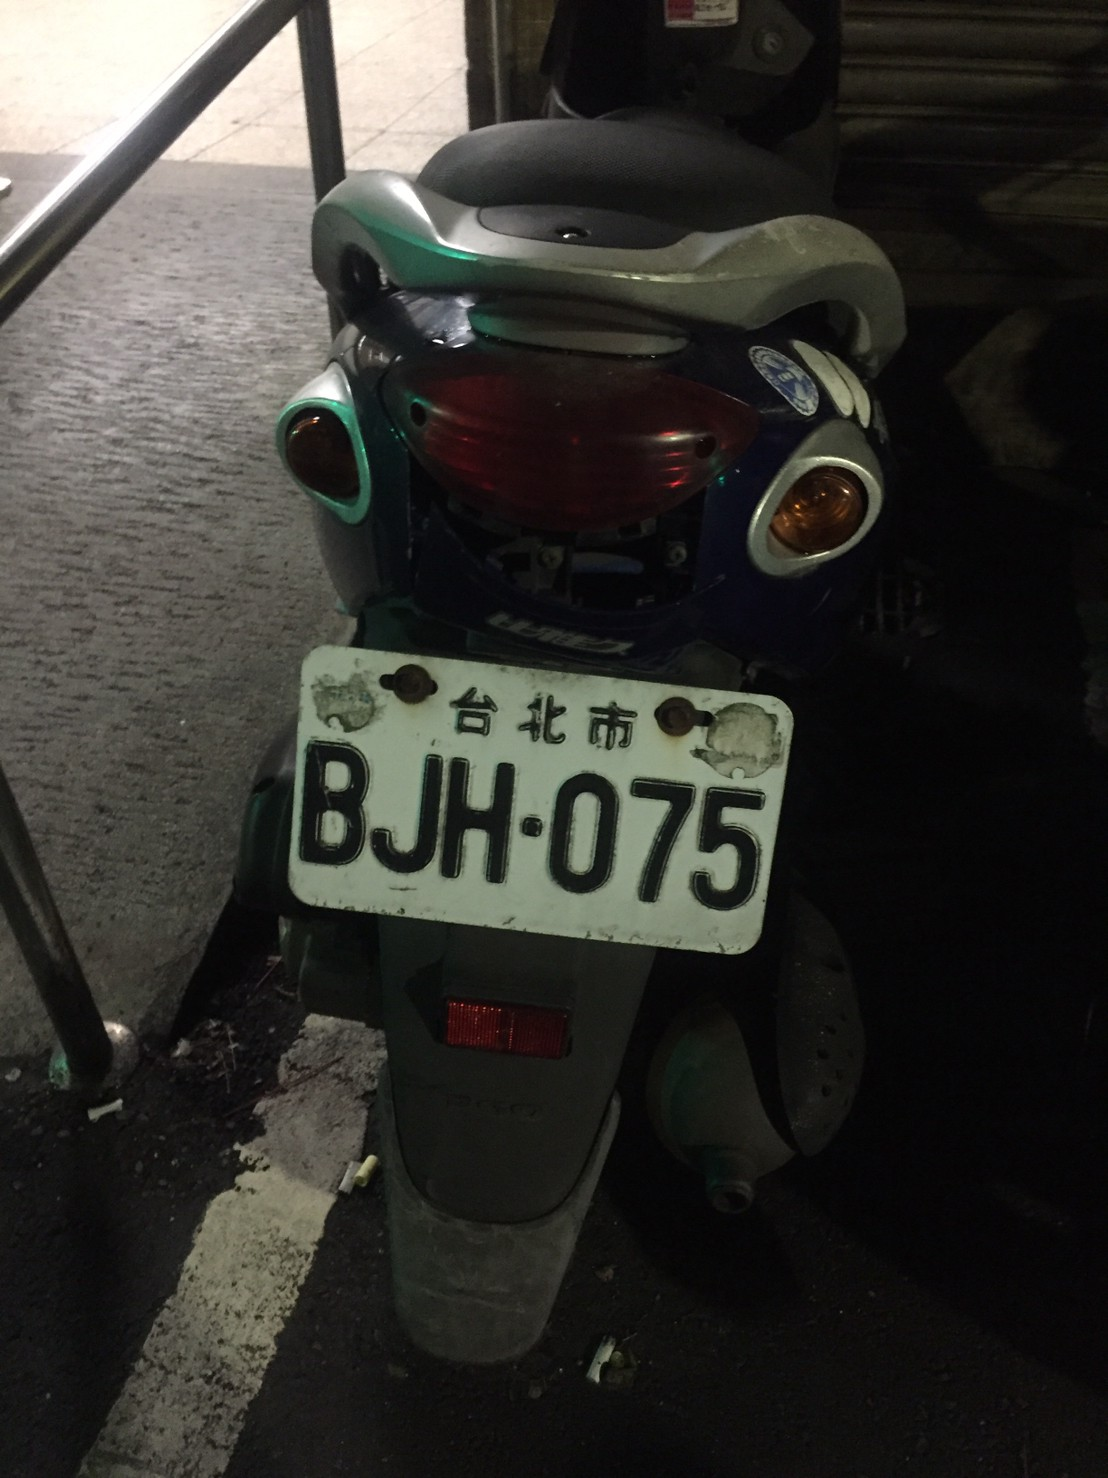LP: (292, 651, 777, 955)
